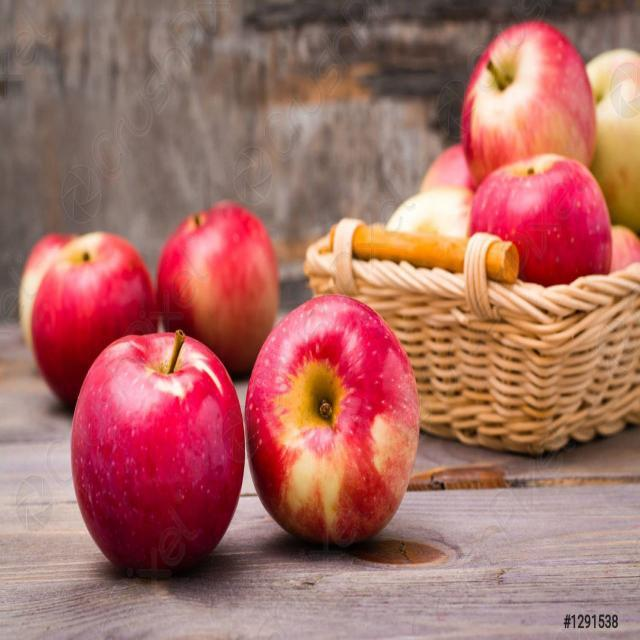Fresh Apple: (70, 325, 235, 587), (252, 305, 423, 557), (152, 183, 286, 355), (472, 25, 592, 175), (465, 166, 613, 286), (40, 230, 150, 387)
